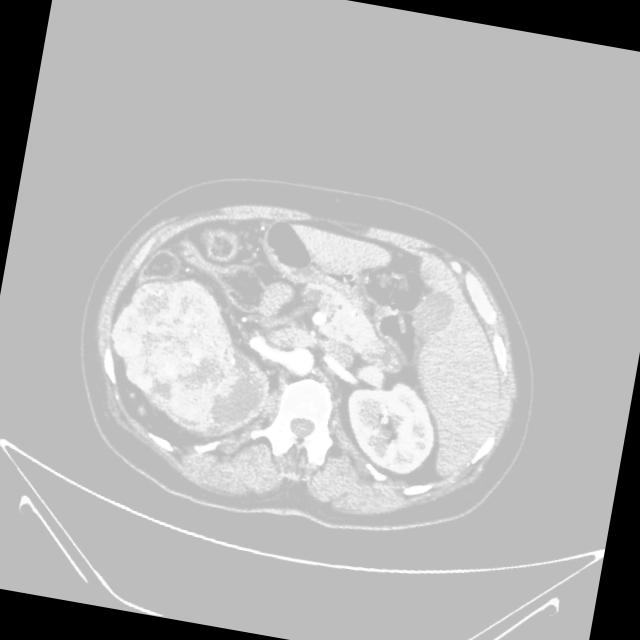TUMOR: (72, 290, 499, 513)
